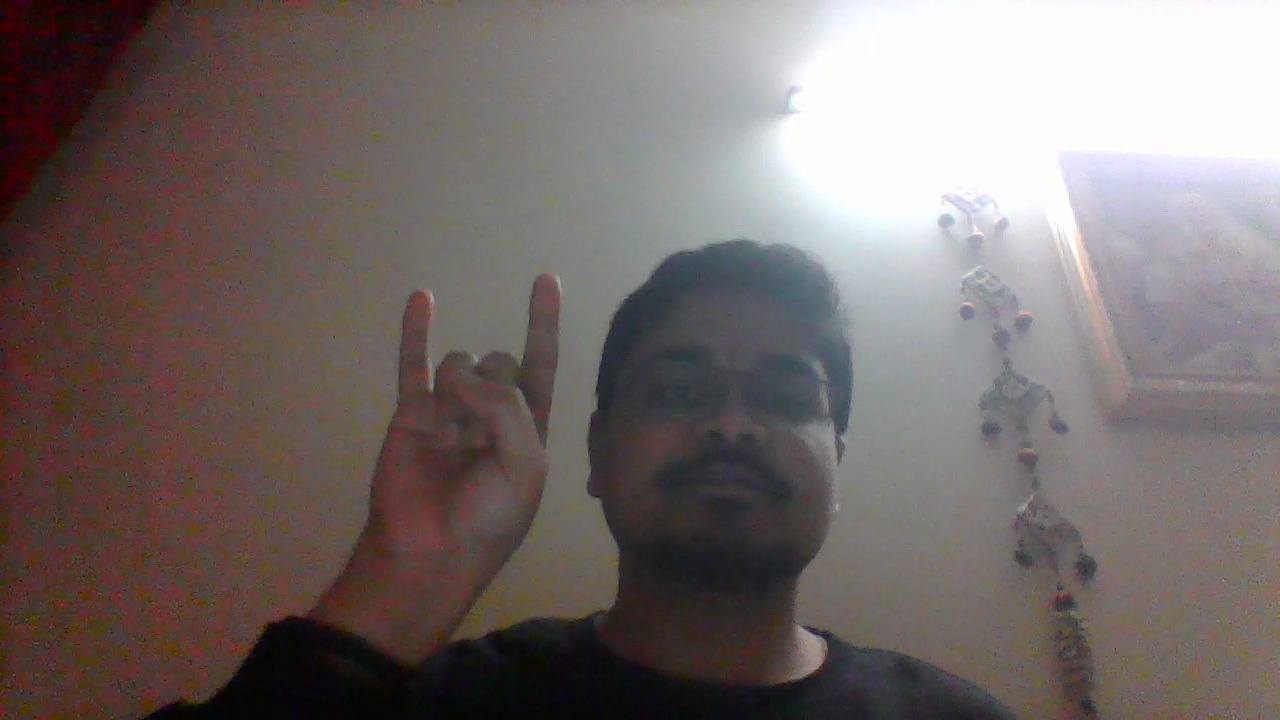ILoveYou: (362, 266, 568, 613)
